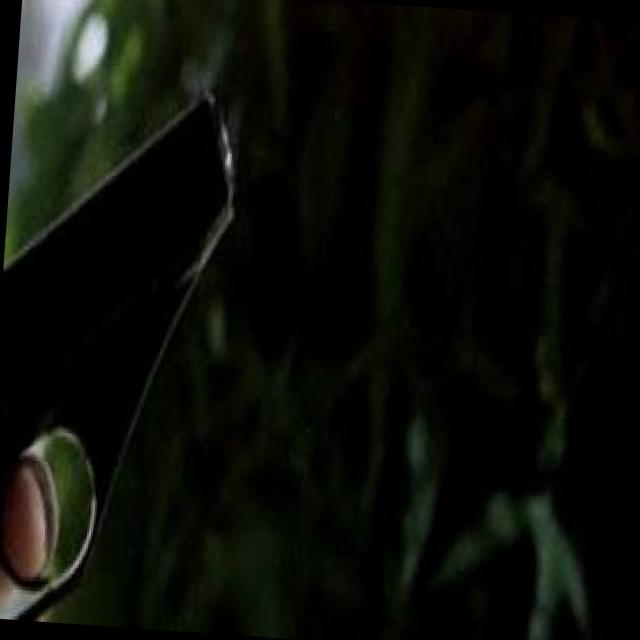Guns: (0, 26, 279, 635)
